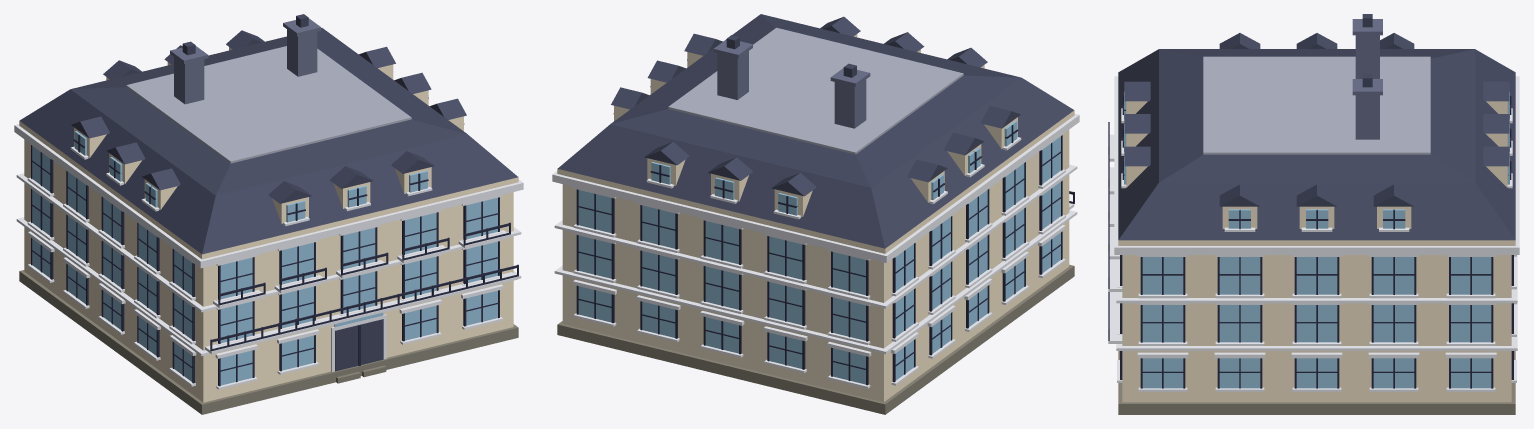
Rendered from house-2x2-3f-haussmann-a.glb.
The picture shows the model from 3 angles, left to right: view 1: azimuth 30°, elevation 25°; view 2: azimuth 150°, elevation 25°; view 3: azimuth 270°, elevation 25°; orthographic projection. The views are drawn at different scales.
Visible parts, largest first — view 1: house-2x2-3f-haussmann-a; view 2: house-2x2-3f-haussmann-a; view 3: house-2x2-3f-haussmann-a.
Part boxes in pixels (<box>): house-2x2-3f-haussmann-a: <box>14,14,523,414</box>; house-2x2-3f-haussmann-a: <box>552,14,1079,414</box>; house-2x2-3f-haussmann-a: <box>1108,14,1519,414</box>.
Bounding box in the file's own units: 2 × 1.55 × 2.03.
Materials: 1 (1 with a texture image).
